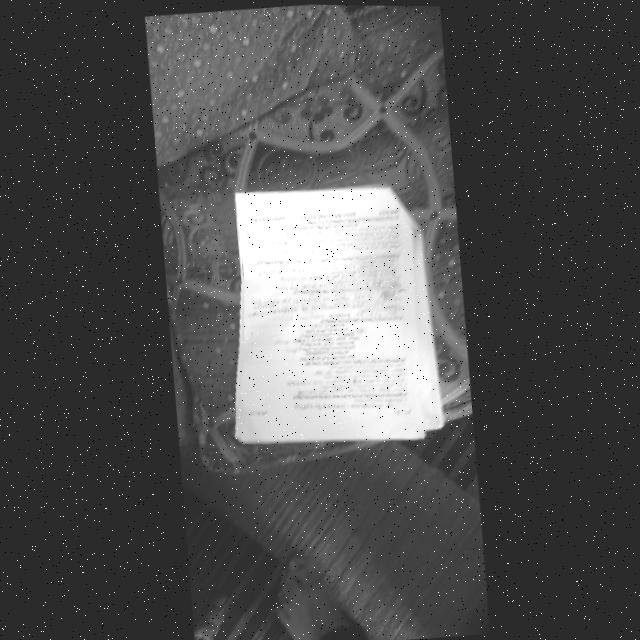document: (235, 187, 444, 442)
